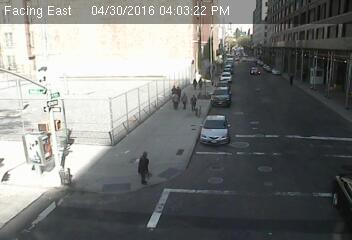neg: (230, 100, 270, 154), (58, 146, 86, 183), (82, 95, 106, 127), (107, 57, 129, 85), (238, 41, 259, 70), (145, 33, 166, 61), (198, 36, 216, 61), (290, 112, 308, 134)
pos: (130, 148, 160, 188), (178, 88, 193, 109), (189, 92, 203, 110), (287, 71, 300, 88), (187, 76, 198, 91), (198, 76, 209, 91)
